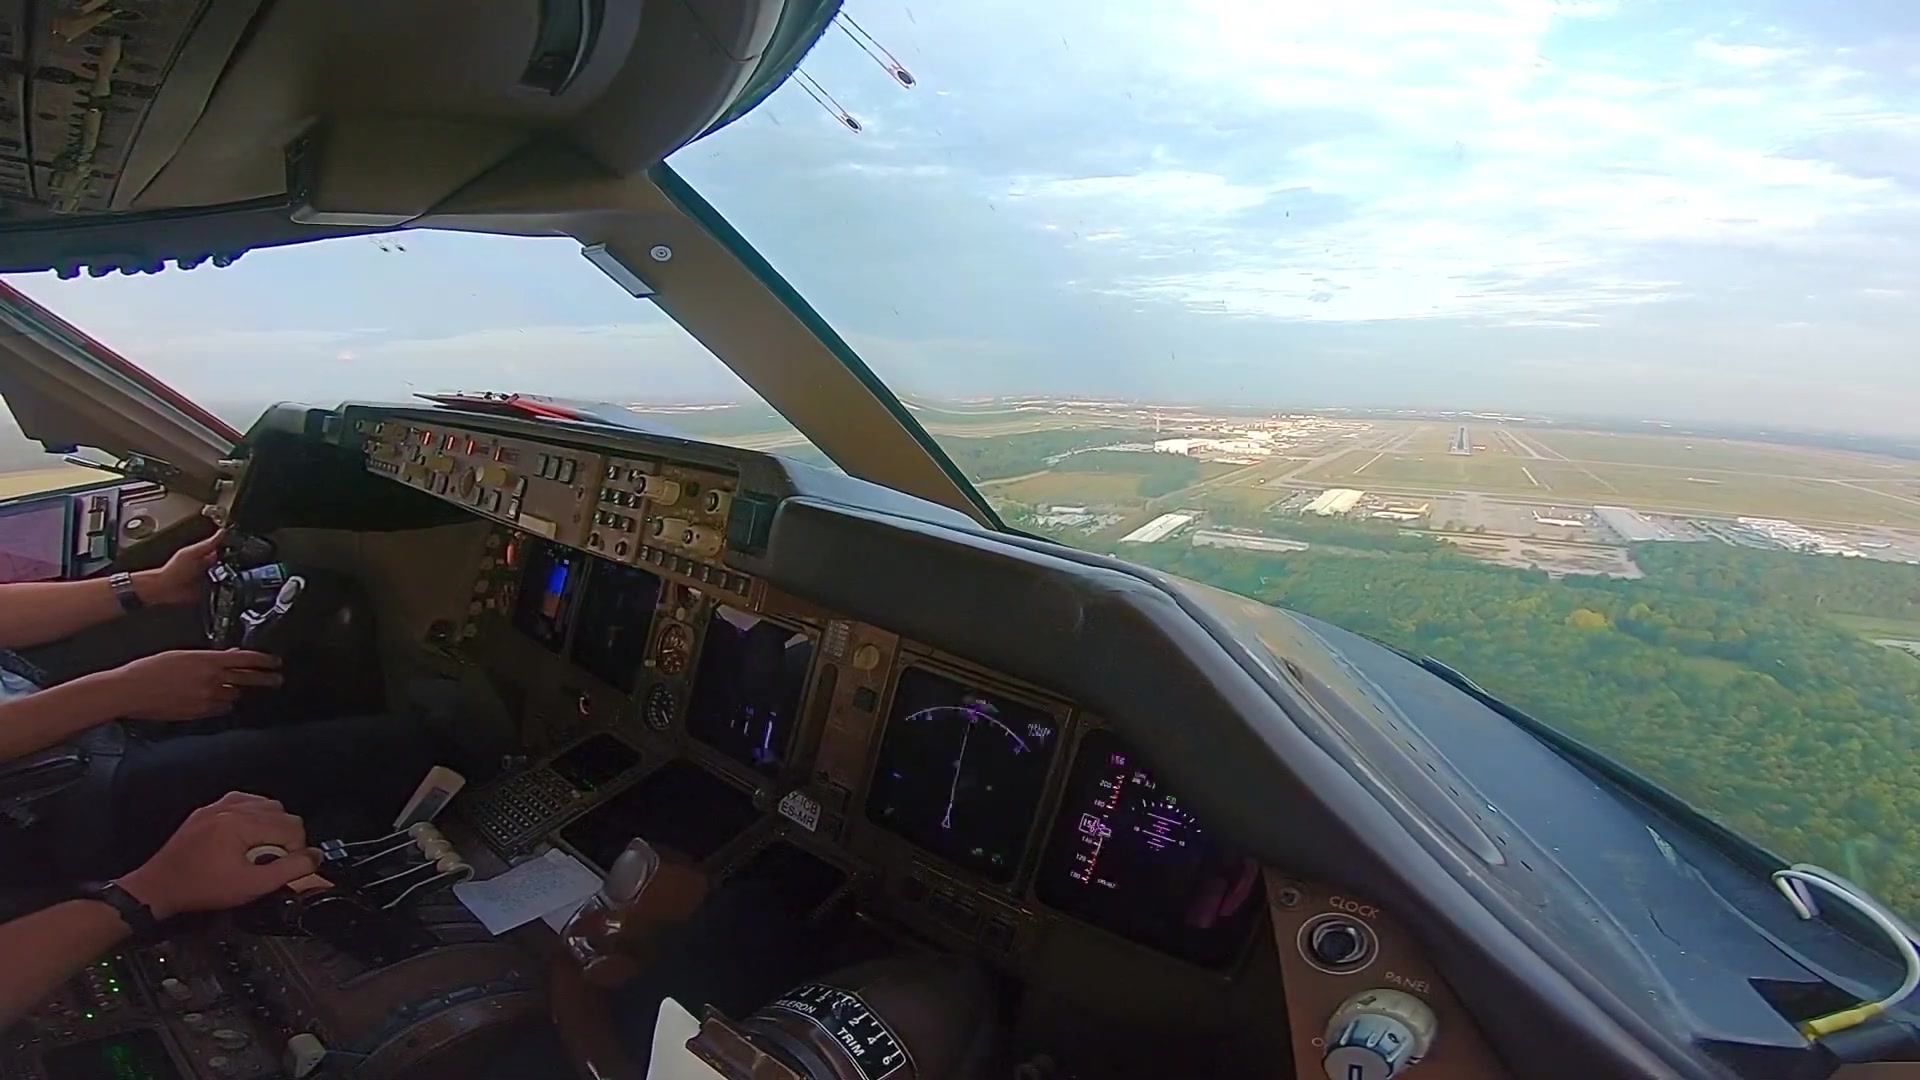runway: (1448, 425, 1472, 456)
